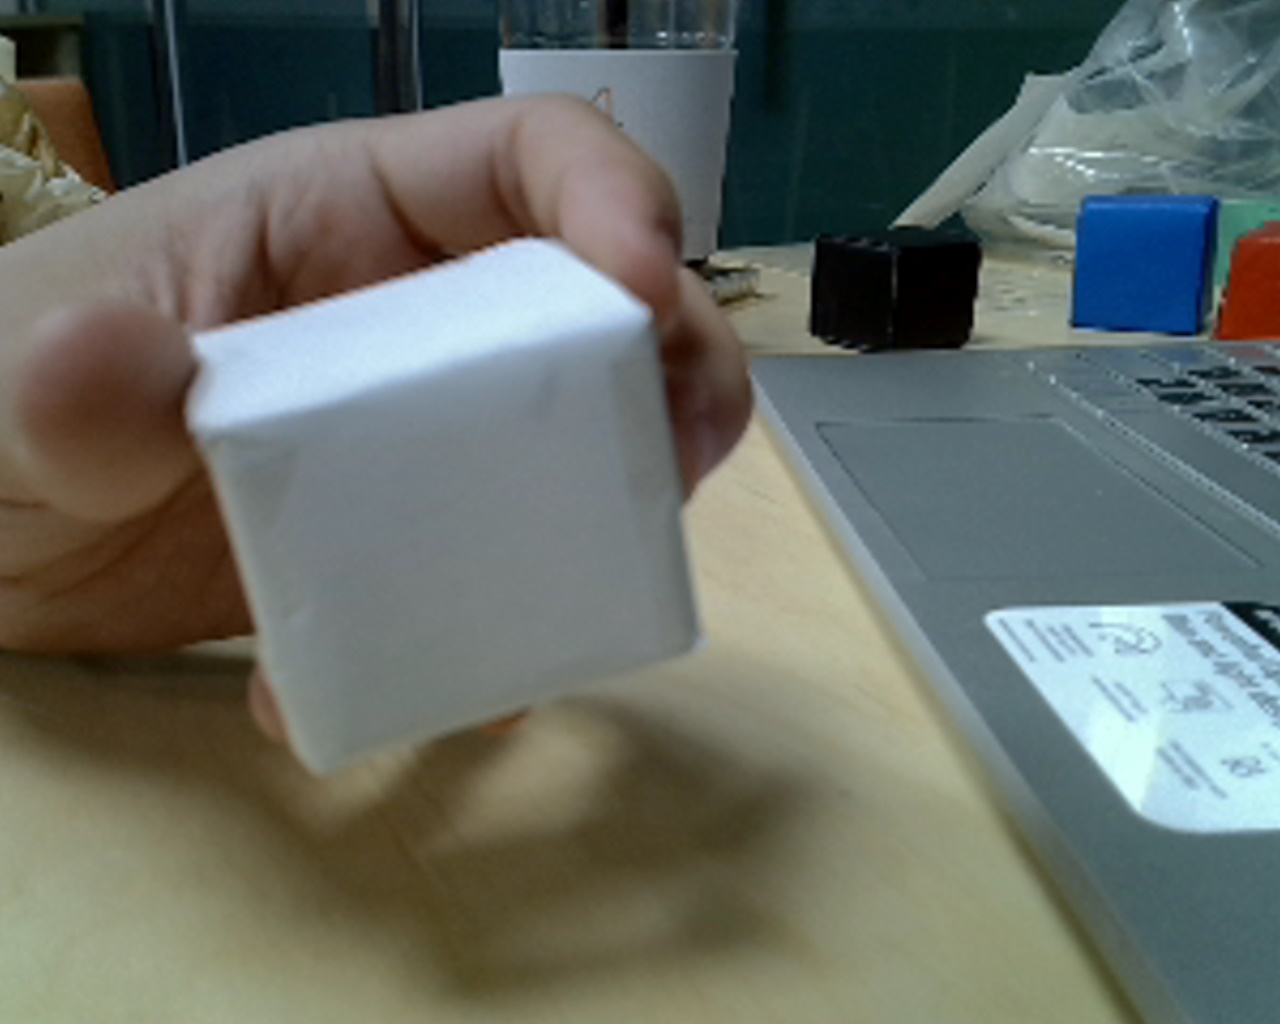whitebox: (155, 212, 755, 764)
